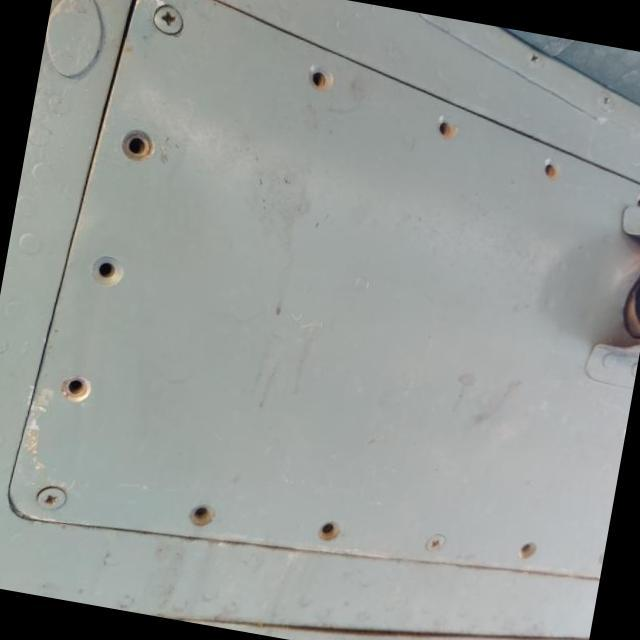Fastener Damage: (94, 107, 178, 186), (36, 353, 112, 428), (162, 484, 237, 550), (72, 238, 142, 308), (288, 47, 352, 111), (296, 500, 362, 562), (496, 520, 560, 582), (416, 100, 476, 158), (526, 142, 578, 195), (619, 179, 640, 227)
